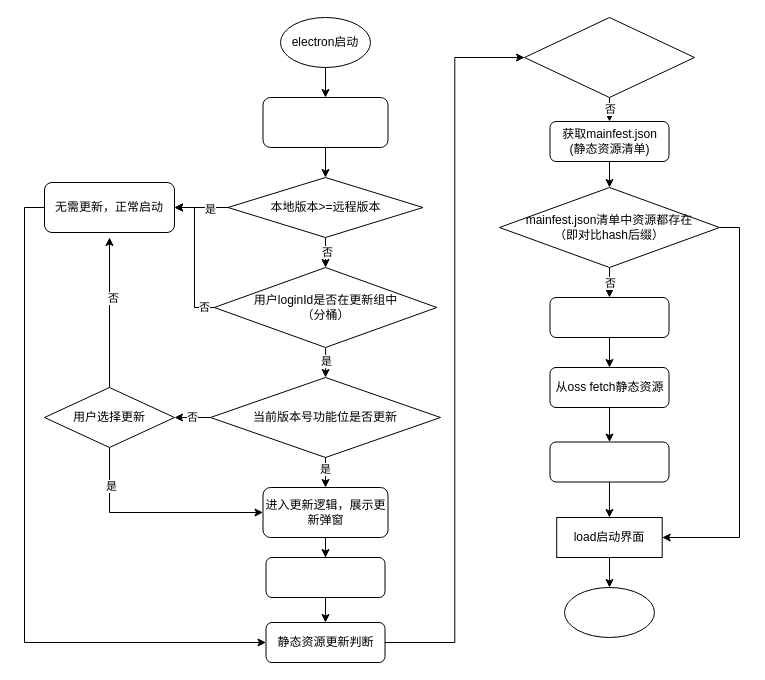
This 765x680 diagram has some shape labels left out. The shapes that lost their labels are listed below. From the top down, each one's box as (x1, y1, x2, y2) in pixels, then its label:
(524, 16, 694, 98): development环境 || argv: --local-bundles
(262, 96, 388, 148): 请求服务端latest.json更新文件信息
(549, 296, 669, 338): 展示更新程序窗口
(549, 441, 669, 482): 关闭更新程序窗口
(265, 556, 385, 598): 下载->安装->启动
(564, 586, 654, 638): 结束
